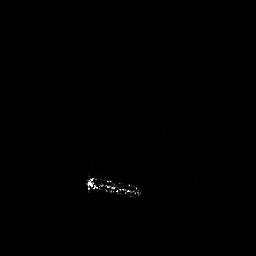ship: (84, 175, 143, 199)
